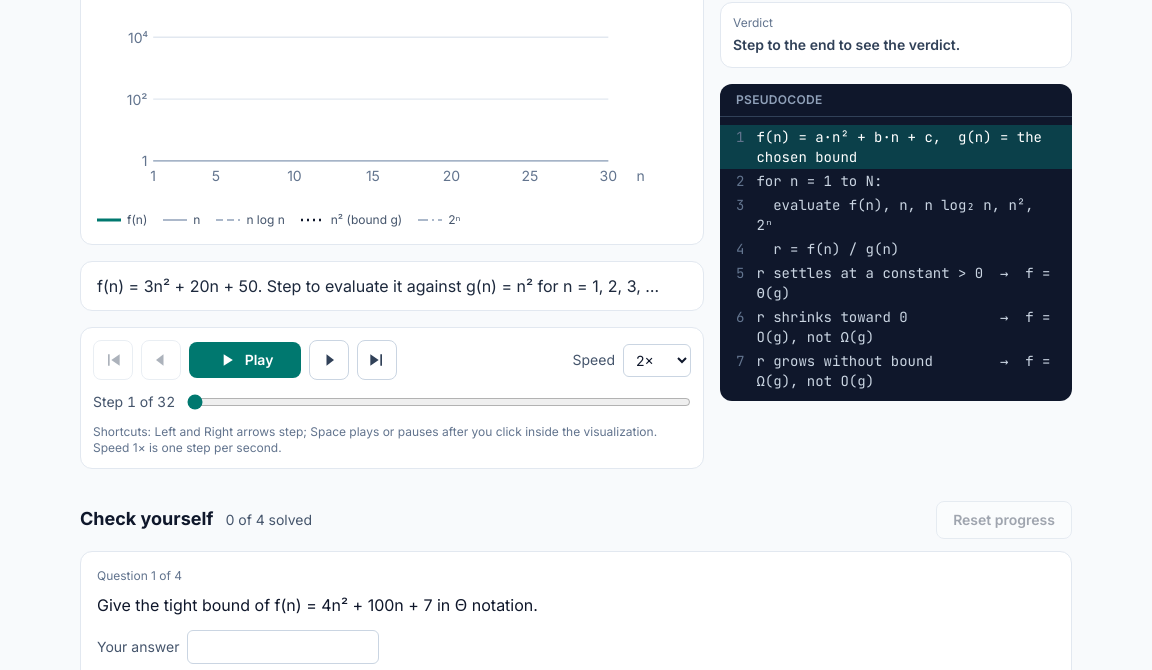
asymptotic notation lesson › starts empty and evaluates n = 1 on the first step
The width and height of the screenshot is (1152, 670).
(page scrolled)
Click the button named "Next step". click: x=329, y=360
box: [309,340,349,380]
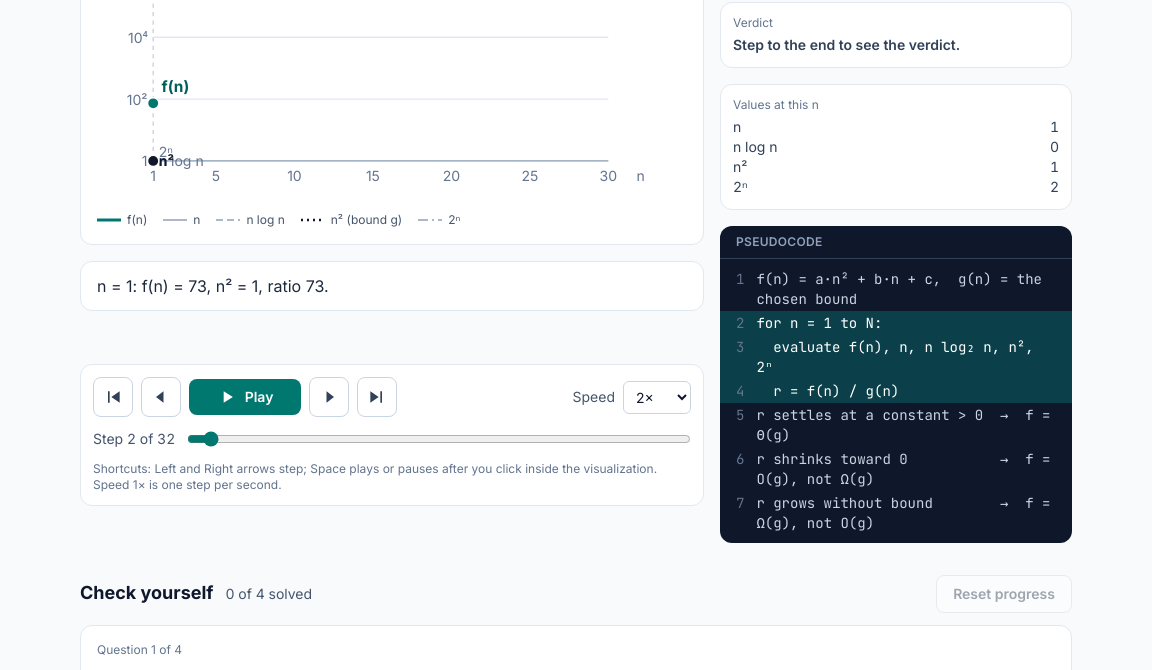
Check: the text "n = 1: f(n) = 73, n² = 1, ratio 73." is shown, box [80,261,704,311]
